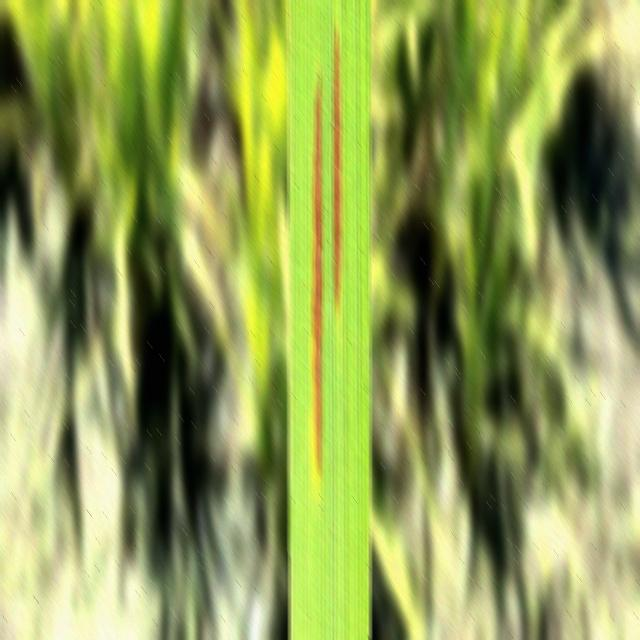NBS: (311, 70, 322, 474), (332, 24, 342, 311)
